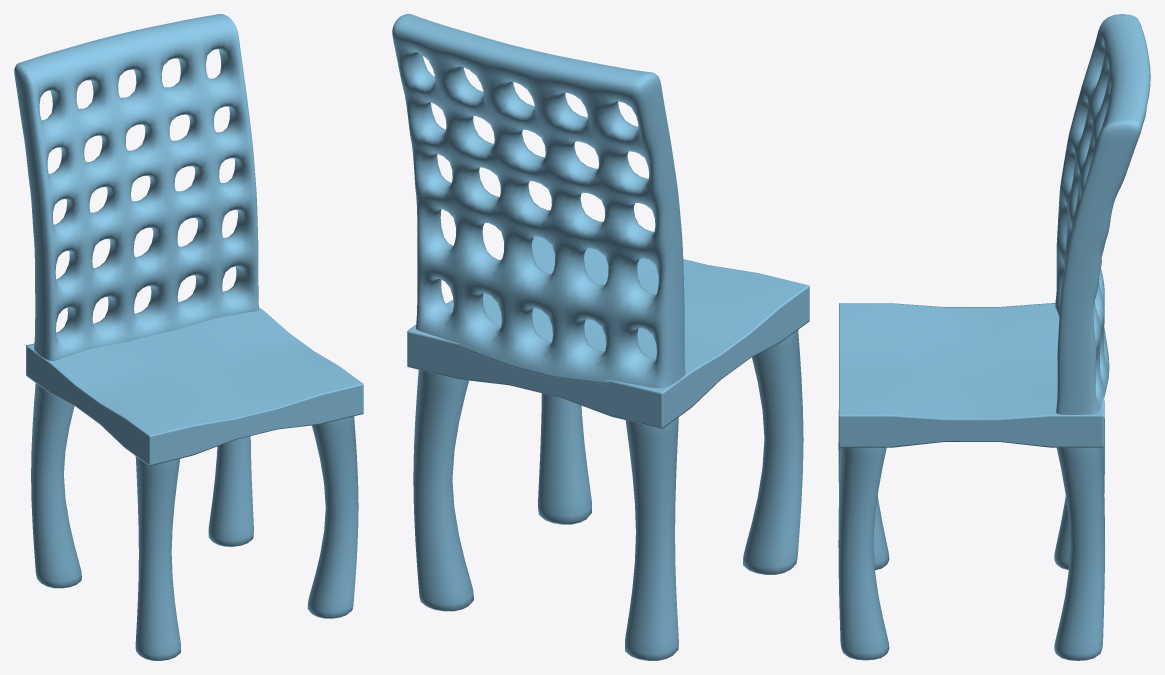
The model's file is chair_3df6e895.glb.
3 views of the same model, side by side, from view 1: azimuth 30°, elevation 25°; view 2: azimuth 150°, elevation 25°; view 3: azimuth 270°, elevation 25° (orthographic). The views are drawn at different scales.
Parts seen in each view (by area): view 1: Object_2; view 2: Object_2; view 3: Object_2.
Part boxes in pixels (<box>): Object_2: <box>14,14,363,660</box>; Object_2: <box>392,14,809,660</box>; Object_2: <box>838,14,1150,660</box>.
Size of the model in its own units: 0.9261 by 2.07 by 1.08.
